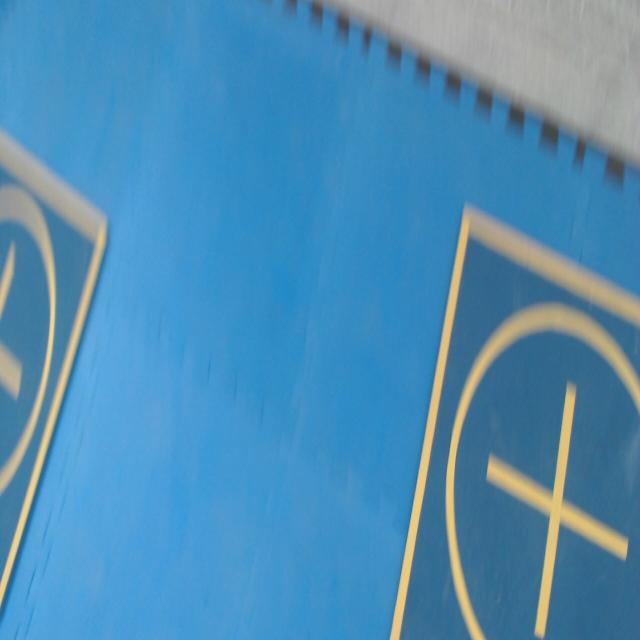base_pouso: (389, 202, 640, 638), (0, 139, 110, 607)
